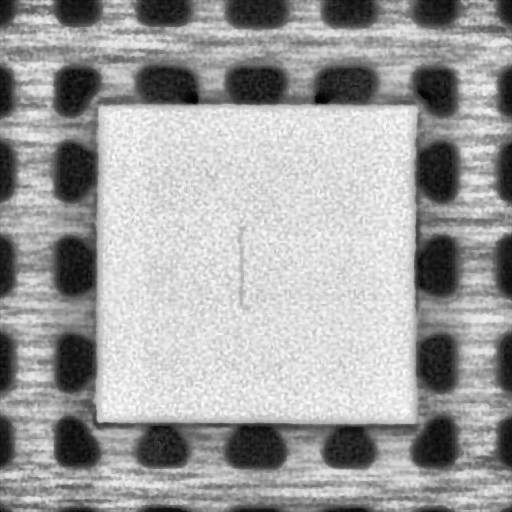DIE_CRACK: (230, 226, 254, 310)
